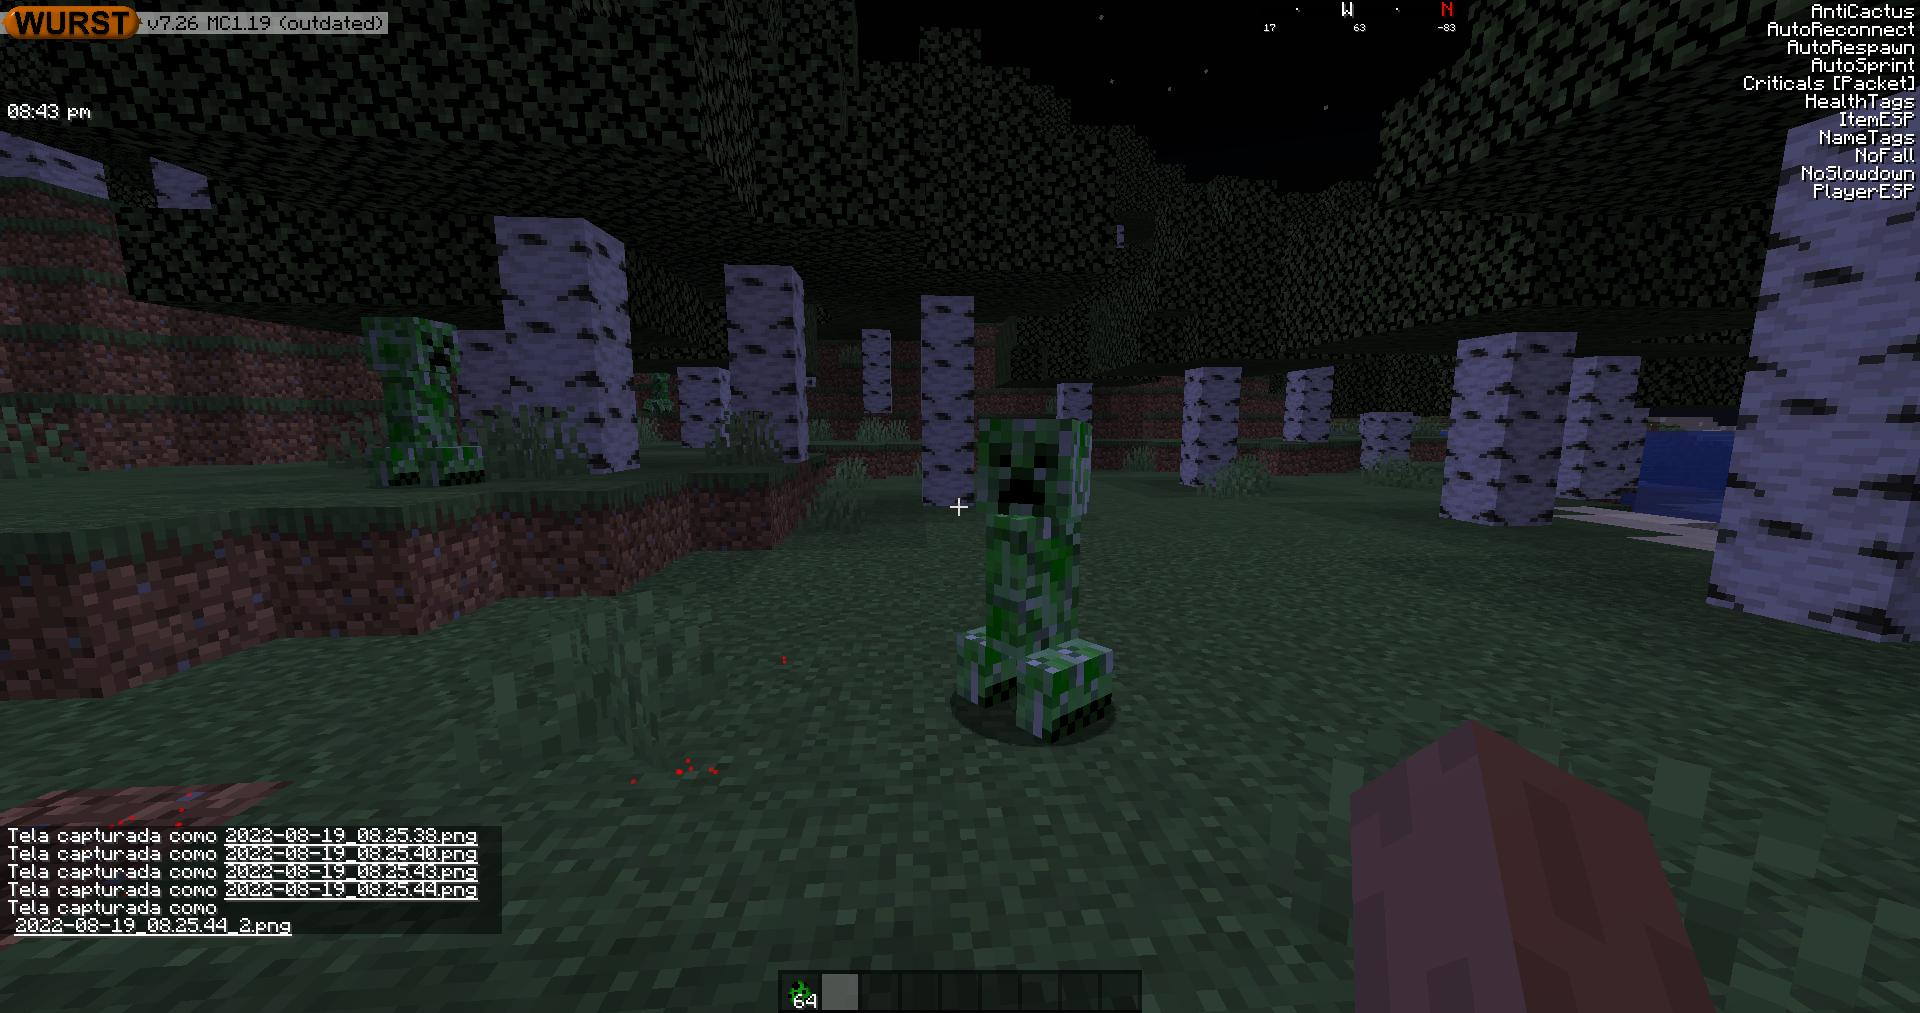creeper: (968, 410, 1106, 736), (350, 303, 485, 487)
